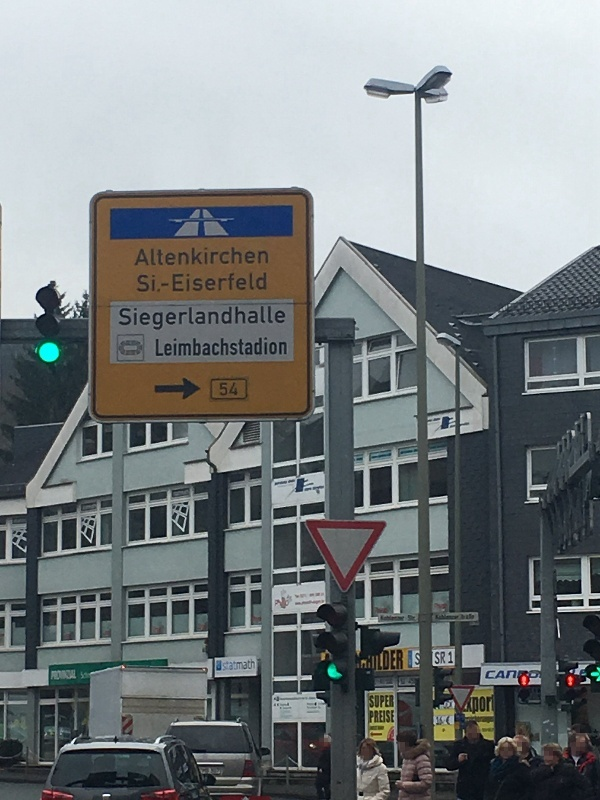text: (129, 307, 144, 333), (145, 307, 160, 333), (161, 307, 176, 333), (177, 307, 192, 333), (193, 307, 208, 333), (209, 307, 224, 333), (225, 307, 240, 333), (241, 307, 256, 333), (257, 307, 272, 333), (337, 651, 352, 676), (353, 651, 368, 676), (369, 651, 384, 676), (385, 651, 400, 676), (433, 695, 448, 718), (449, 695, 464, 718), (465, 695, 480, 718), (273, 307, 286, 333), (481, 695, 495, 718), (145, 274, 161, 294), (161, 337, 176, 357), (177, 337, 192, 357), (193, 337, 208, 357), (209, 337, 224, 357), (225, 337, 240, 357), (241, 337, 256, 357), (257, 337, 272, 357), (273, 337, 288, 357), (177, 273, 192, 293), (193, 273, 208, 293), (209, 273, 224, 293), (225, 273, 240, 293), (241, 273, 256, 293), (145, 247, 160, 266), (161, 247, 176, 266), (177, 247, 192, 266), (193, 247, 208, 266), (209, 247, 224, 266), (225, 247, 240, 266), (241, 247, 256, 266), (325, 651, 336, 676), (305, 592, 320, 608), (417, 653, 432, 668), (225, 660, 240, 674), (241, 660, 256, 674), (257, 247, 268, 266), (120, 307, 128, 333), (257, 273, 267, 293), (370, 696, 384, 710), (225, 383, 239, 397), (369, 712, 384, 725), (433, 653, 445, 668), (465, 716, 480, 727), (497, 670, 512, 681), (513, 670, 528, 681), (529, 670, 544, 681), (545, 670, 560, 681), (561, 670, 576, 681), (294, 592, 304, 608), (481, 716, 495, 727), (51, 671, 64, 682), (385, 696, 395, 710), (434, 717, 448, 727), (289, 479, 304, 488), (385, 615, 400, 624), (401, 615, 416, 624), (417, 615, 432, 624), (433, 615, 448, 624), (449, 615, 464, 624), (65, 671, 77, 682), (274, 479, 288, 488), (369, 726, 384, 734), (138, 274, 144, 294), (385, 712, 394, 725), (486, 670, 496, 681), (577, 670, 587, 681), (305, 486, 320, 493), (465, 615, 476, 624), (481, 728, 496, 734), (156, 337, 160, 357), (81, 673, 91, 681), (140, 247, 144, 266), (401, 651, 404, 676), (321, 592, 325, 608), (173, 273, 176, 293), (220, 383, 224, 397), (449, 653, 453, 665), (379, 615, 384, 624), (162, 284, 176, 287), (305, 479, 309, 488), (222, 660, 224, 674), (321, 486, 325, 493), (449, 717, 451, 727), (415, 653, 416, 668)
